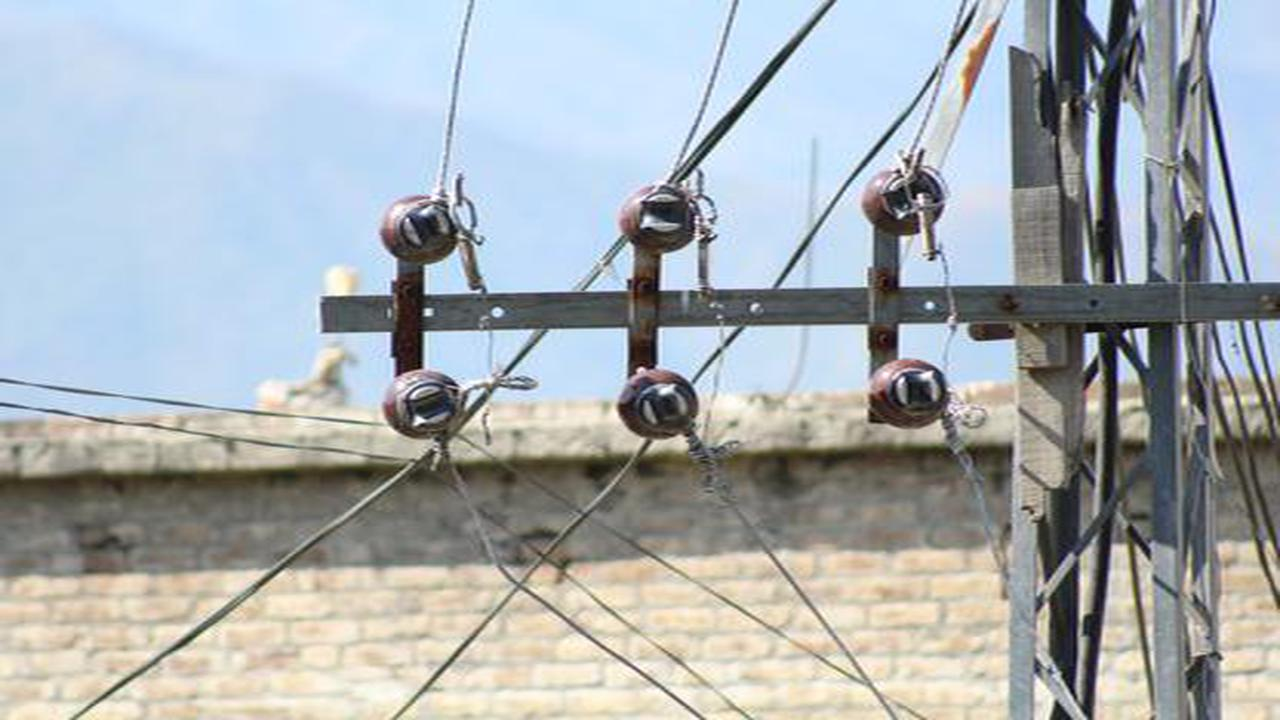insulator_pin: (860, 350, 957, 433), (377, 358, 467, 444), (375, 191, 467, 272), (613, 367, 705, 442), (863, 163, 950, 237), (617, 176, 700, 250)
